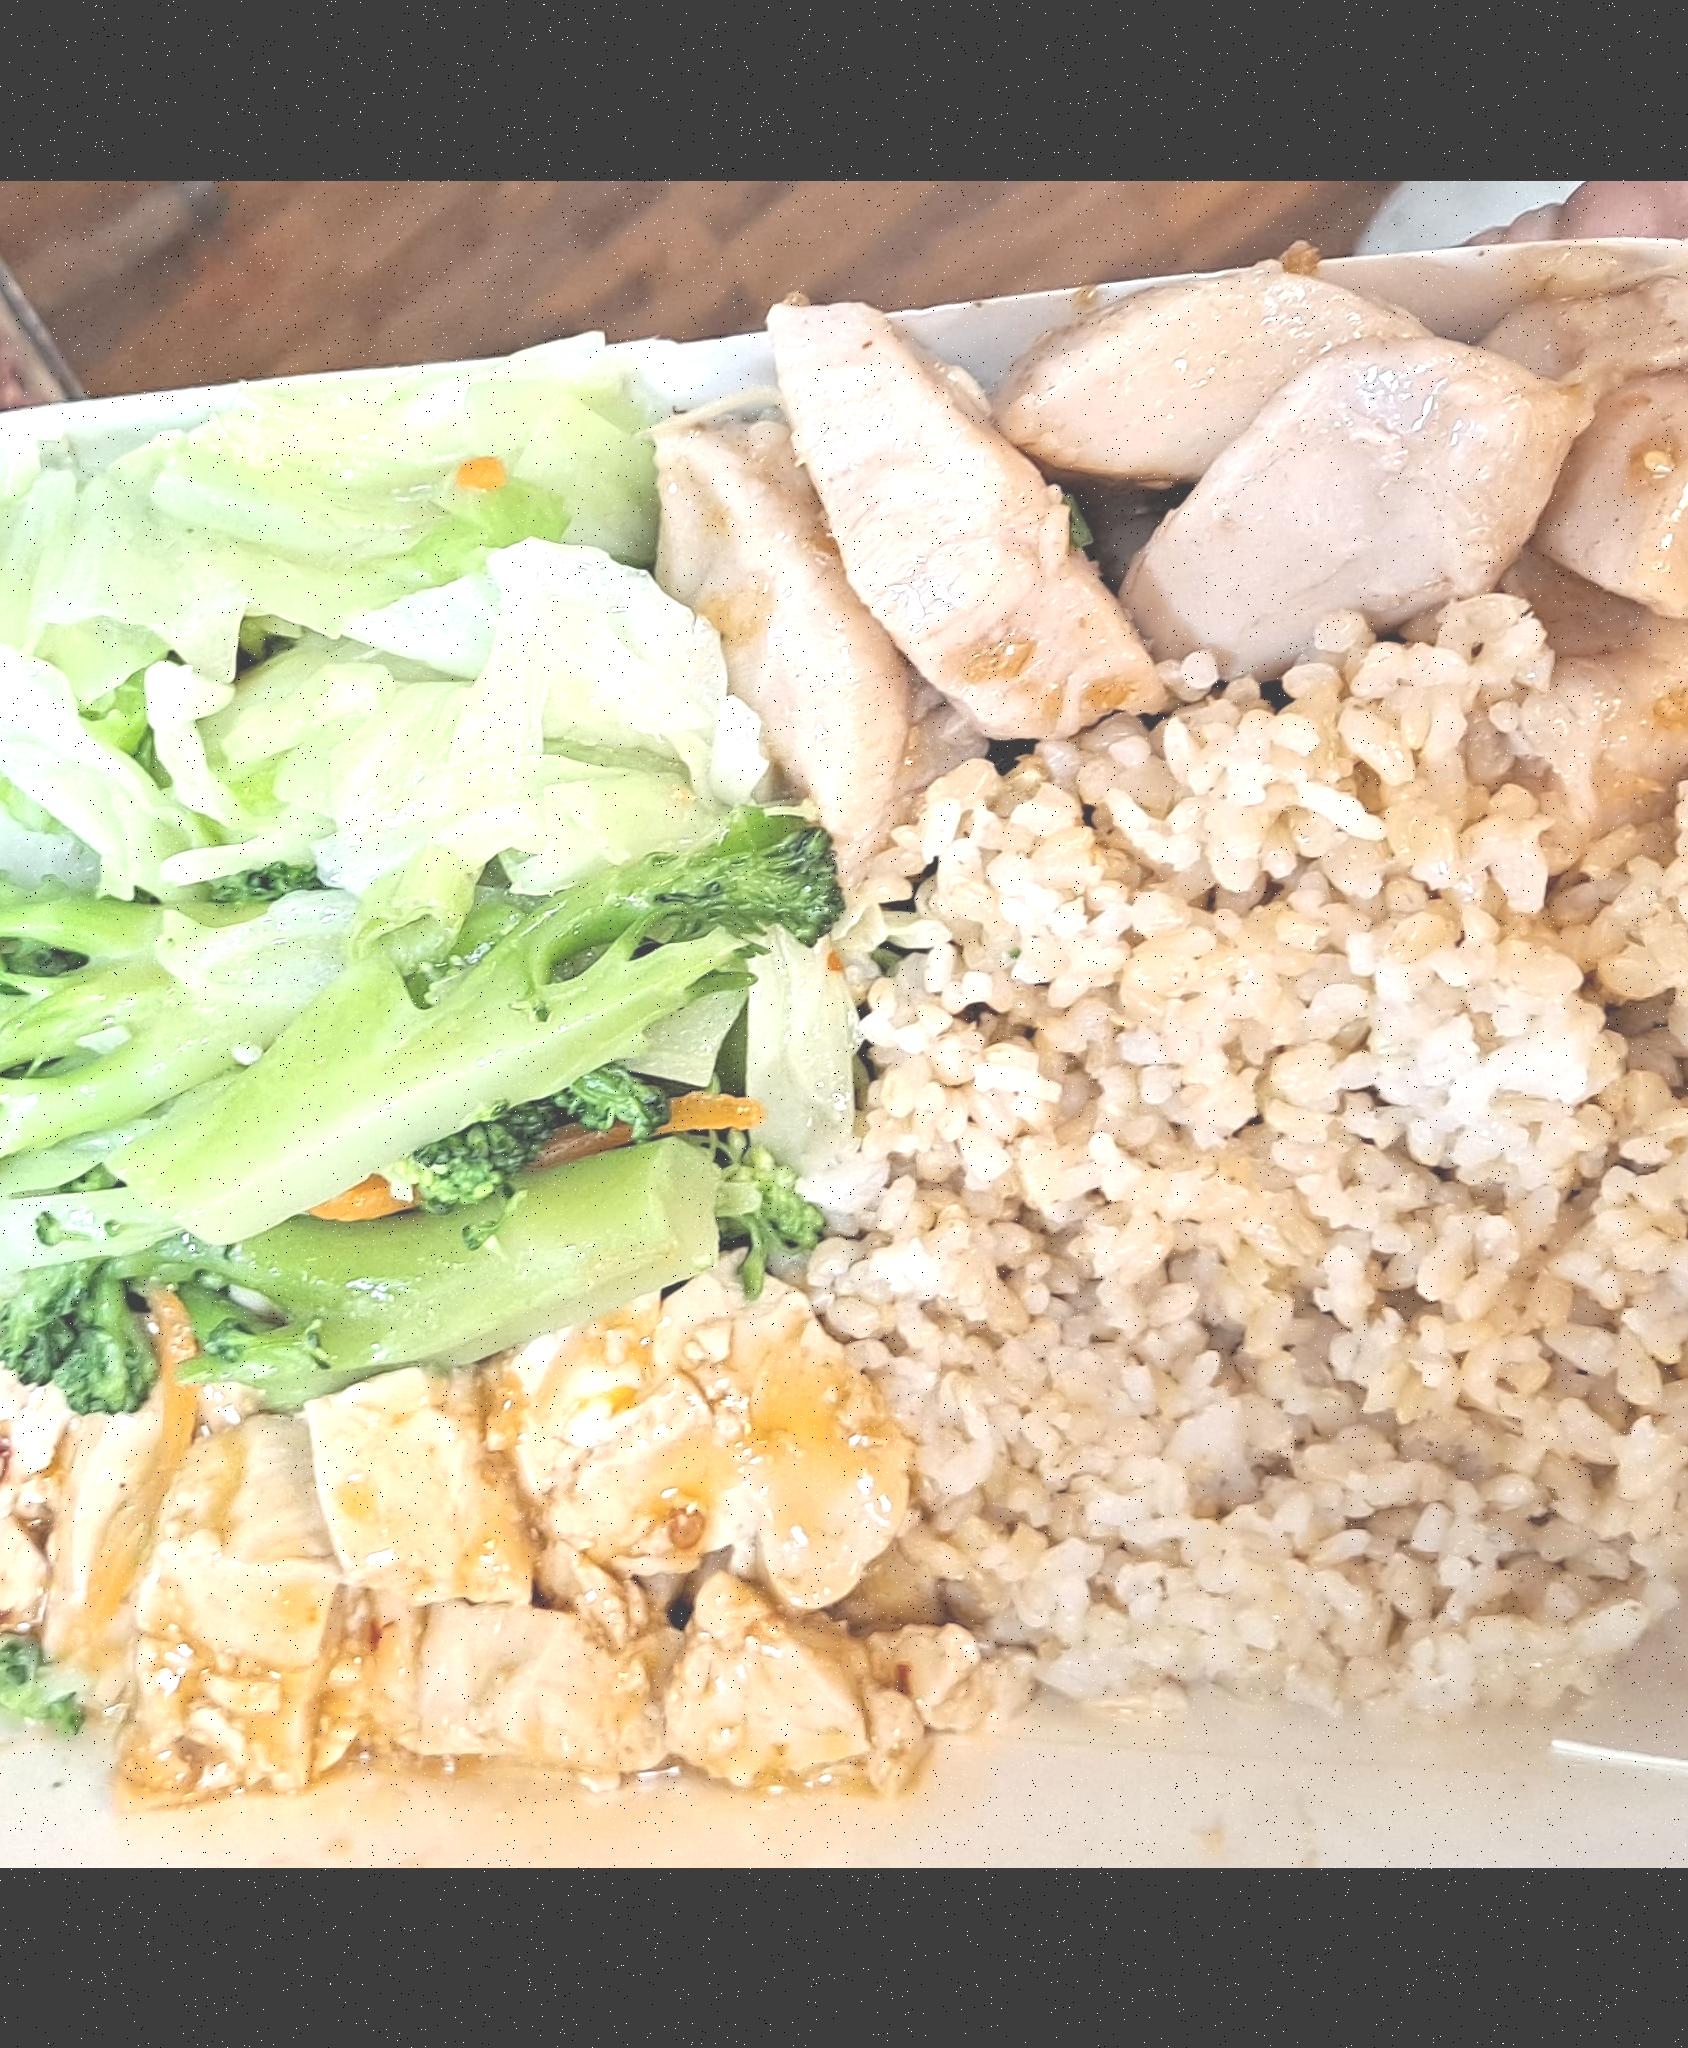big grilled chicken leg: (0, 208, 1688, 1803)
box: (798, 675, 1688, 1737)
braised fish fillet: (0, 1284, 975, 1791), (0, 798, 820, 1376), (0, 396, 749, 878)
braised pork: (657, 225, 1688, 844)
